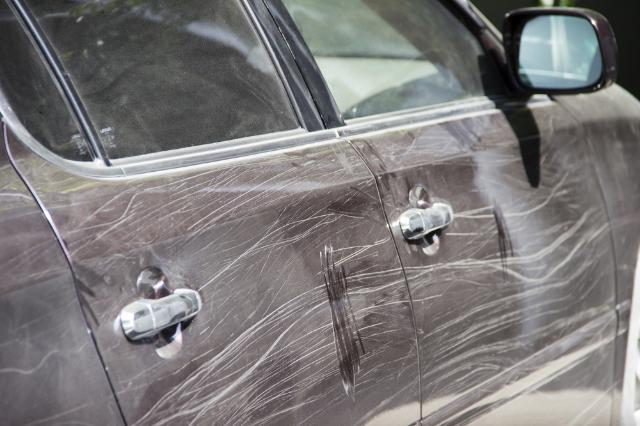scratch: (41, 140, 422, 426), (348, 104, 616, 426), (0, 238, 86, 384)
